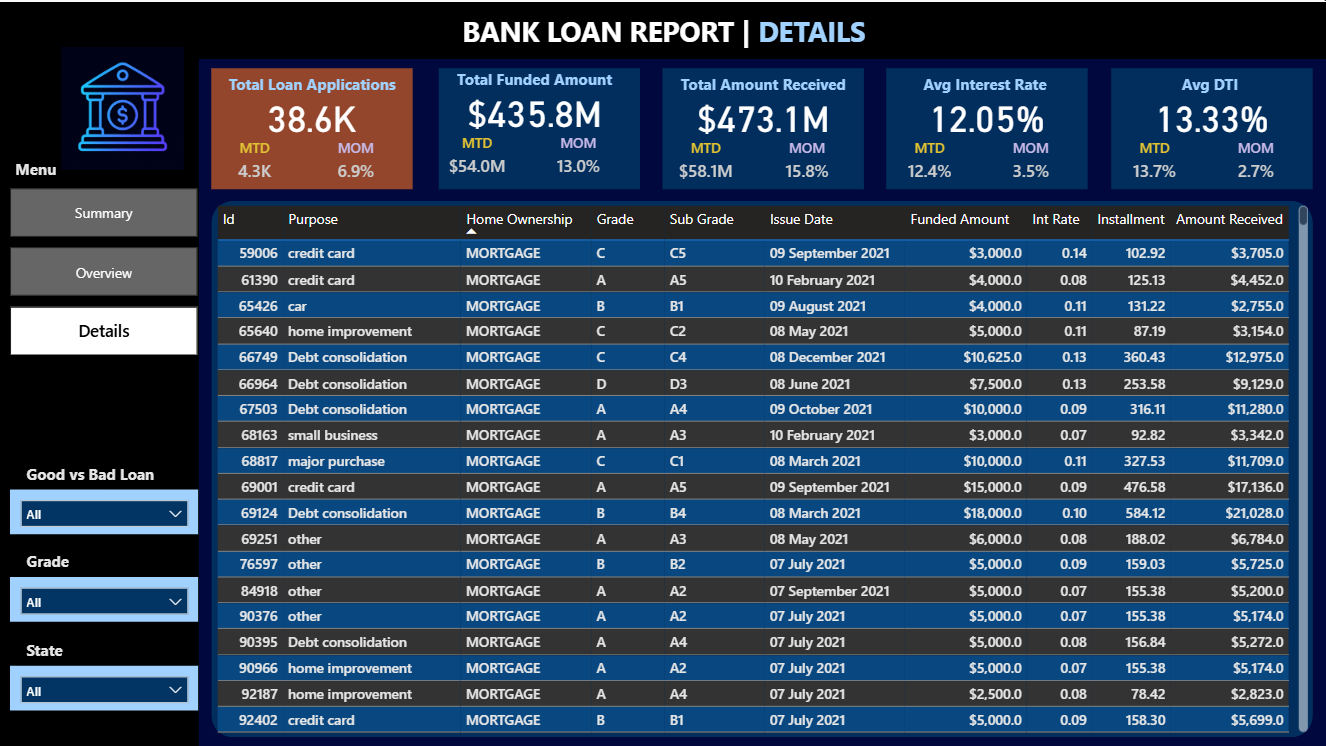

Layout of this report page (visuals, bound fields, positions):
{"tool":"powerbi","page":{"name":"Details","canvas":[1280,720],"ordinal":2},"visuals":[{"type":"shape","box":[0,54.8,192,665.1],"z":0},{"type":"shape","box":[203.4,63.8,194.8,116.9],"z":0,"group":"g1"},{"type":"shape","box":[423.8,63.2,194.2,117],"z":1000,"group":"g2"},{"type":"shape","box":[639.2,63.6,194.8,116.9],"z":1000,"group":"g3"},{"type":"shape","box":[855.6,63.6,194.8,116.9],"z":1000,"group":"g4"},{"type":"shape","box":[1072,63.8,194.8,116.9],"z":1000,"group":"g5"},{"type":"card","fields":{"Values":["Bank_Loan_data.Total Loan Applications"]},"box":[203.4,82.6,194.8,53.4],"z":1000,"group":"g1"},{"type":"shape","box":[203.4,191.9,1063.3,518],"z":1000},{"type":"shape","box":[0,0,1280,55],"z":2000},{"type":"textbox","box":[203.4,63.8,194.8,33.2],"z":2000,"group":"g1"},{"type":"textbox","box":[411.2,4.3,458.8,50.5],"z":3000},{"type":"card","fields":{"Values":["Bank_Loan_data.Total Funded Amount"]},"box":[419.2,77.6,194.8,53.4],"z":3000,"group":"g2"},{"type":"card","fields":{"Values":["Bank_Loan_data.Total Amount Received"]},"box":[639.2,82.4,194.8,53.4],"z":3000,"group":"g3"},{"type":"card","fields":{"Values":["Bank_Loan_data.Avg Interest Rate"]},"box":[855.6,82.4,194.8,53.4],"z":3000,"group":"g4"},{"type":"card","fields":{"Values":["Bank_Loan_data.Avg DTI"]},"box":[1072,82.6,194.8,53.4],"z":3000,"group":"g5"},{"type":"card","title":"MTD","fields":{"Values":["Date Table.MTD Loan Applications"]},"box":[203.4,131.6,83.7,49.1],"z":3000,"group":"g1"},{"type":"group","id":"g1","title":"Group 1","box":[203.4,63.8,194.8,116.9],"z":4000},{"type":"card","title":"MOM","fields":{"Values":["Date Table.MOM Loan Applications"]},"box":[301.5,131.6,83.7,49.1],"z":4000,"group":"g1"},{"type":"group","id":"g2","title":"Group 2","box":[419.2,58.8,199.1,121.9],"z":5000},{"type":"textbox","box":[419.2,58.8,194.8,33.2],"z":5000,"group":"g2"},{"type":"textbox","box":[639.2,63.6,194.8,33.2],"z":5000,"group":"g3"},{"type":"textbox","box":[855.6,63.6,194.8,33.2],"z":5000,"group":"g4"},{"type":"textbox","box":[1072,63.8,194.8,33.2],"z":5000,"group":"g5"},{"type":"group","id":"g3","title":"Group 2","box":[639.2,63.6,195.4,117],"z":6000},{"type":"card","title":"MTD","fields":{"Values":["Date Table.MTD Funded Amount"]},"box":[419.2,126.6,83.7,49.1],"z":6000,"group":"g2"},{"type":"card","title":"MTD","fields":{"Values":["Date Table.MTD Total Amount Received"]},"box":[639.2,131.4,83.7,49.1],"z":6000,"group":"g3"},{"type":"card","title":"MTD","fields":{"Values":["Date Table.MTD Avg Interest Rate"]},"box":[855.6,131.4,83.7,49.1],"z":6000,"group":"g4"},{"type":"card","title":"MTD","fields":{"Values":["Date Table.MTD Avg DTI"]},"box":[1072,131.6,83.7,49.1],"z":6000,"group":"g5"},{"type":"group","id":"g4","title":"Group 2","box":[855.6,63.6,195.4,117],"z":7000},{"type":"card","title":"MOM","fields":{"Values":["Date Table.MOM Funded Amount"]},"box":[517.3,126.6,83.7,49.1],"z":7000,"group":"g2"},{"type":"card","title":"MOM","fields":{"Values":["Date Table.MOM Total Amount Received"]},"box":[737.3,131.4,83.7,49.1],"z":7000,"group":"g3"},{"type":"card","title":"MOM","fields":{"Values":["Date Table.MOM Avg Interest Rate"]},"box":[953.7,131.4,83.7,49.1],"z":7000,"group":"g4"},{"type":"card","title":"MOM","fields":{"Values":["Date Table.MOM Avg DTI"]},"box":[1170.1,131.6,83.7,49.1],"z":7000,"group":"g5"},{"type":"group","id":"g5","title":"Group 2","box":[1072,63.8,194.8,116.9],"z":8000},{"type":"textbox","box":[20.2,525.2,76.5,30.3],"z":9000},{"type":"slicer","fields":{"Values":["Bank_Loan_data.grade"]},"box":[10.1,555.5,181.8,43.3],"z":10000},{"type":"textbox","box":[20.2,610.3,76.5,30.3],"z":11000},{"type":"slicer","fields":{"Values":["Bank_Loan_data.address_state"]},"box":[10.1,640.6,181.8,43.3],"z":12000},{"type":"textbox","box":[20.2,440,141.4,30.3],"z":13000},{"type":"slicer","fields":{"Values":["Bank_Loan_data.Good vs Bad Loan"]},"box":[10.1,470.3,181.8,43.3],"z":14000},{"type":"tableEx","fields":{"Values":["Bank_Loan_data.id","Bank_Loan_data.purpose","Bank_Loan_data.home_ownership","Bank_Loan_data.grade","Bank_Loan_data.sub_grade","Bank_Loan_data.issue_date","Bank_Loan_data.Total Funded Amount","Sum(Bank_Loan_data.int_rate)","Sum(Bank_Loan_data.installment)","Bank_Loan_data.Total Amount Received"]},"box":[203.4,191.9,1063.3,518],"z":15000},{"type":"pageNavigator","box":[10.1,180.3,181.8,163],"z":16000},{"type":"textbox","box":[10.1,145.7,76.5,30.3],"z":17000},{"type":"image","box":[59.2,43.3,118.3,118.3],"z":17001}]}

Visuals, with their boxes in screenshot pixels (x1, y1, x2, y2), scaled from the page's 1280x720 canvas onto the 1326x746 screenshot:
shape: BBox(0, 57, 199, 745)
shape: BBox(211, 66, 413, 187)
shape: BBox(439, 65, 640, 187)
shape: BBox(662, 66, 864, 187)
shape: BBox(886, 66, 1088, 187)
shape: BBox(1111, 66, 1312, 187)
card - Bank_Loan_data.Total Loan Applications: BBox(211, 86, 413, 141)
shape: BBox(211, 199, 1312, 736)
shape: BBox(0, 0, 1325, 57)
textbox: BBox(211, 66, 413, 101)
textbox: BBox(426, 4, 901, 57)
card - Bank_Loan_data.Total Funded Amount: BBox(434, 80, 636, 136)
card - Bank_Loan_data.Total Amount Received: BBox(662, 85, 864, 141)
card - Bank_Loan_data.Avg Interest Rate: BBox(886, 85, 1088, 141)
card - Bank_Loan_data.Avg DTI: BBox(1111, 86, 1312, 141)
"MTD" card: BBox(211, 136, 297, 187)
"Group 1" group: BBox(211, 66, 413, 187)
"MOM" card: BBox(312, 136, 399, 187)
"Group 2" group: BBox(434, 61, 641, 187)
textbox: BBox(434, 61, 636, 95)
textbox: BBox(662, 66, 864, 100)
textbox: BBox(886, 66, 1088, 100)
textbox: BBox(1111, 66, 1312, 101)
"Group 2" group: BBox(662, 66, 865, 187)
"MTD" card: BBox(434, 131, 521, 182)
"MTD" card: BBox(662, 136, 749, 187)
"MTD" card: BBox(886, 136, 973, 187)
"MTD" card: BBox(1111, 136, 1197, 187)
"Group 2" group: BBox(886, 66, 1089, 187)
"MOM" card: BBox(536, 131, 623, 182)
"MOM" card: BBox(764, 136, 851, 187)
"MOM" card: BBox(988, 136, 1075, 187)
"MOM" card: BBox(1212, 136, 1299, 187)
"Group 2" group: BBox(1111, 66, 1312, 187)
textbox: BBox(21, 544, 100, 576)
slicer - Bank_Loan_data.grade: BBox(10, 576, 199, 620)
textbox: BBox(21, 632, 100, 664)
slicer - Bank_Loan_data.address_state: BBox(10, 664, 199, 709)
textbox: BBox(21, 456, 167, 487)
slicer - Bank_Loan_data.Good vs Bad Loan: BBox(10, 487, 199, 532)
tableEx - Bank_Loan_data.id x Bank_Loan_data.purpose: BBox(211, 199, 1312, 736)
pageNavigator: BBox(10, 187, 199, 356)
textbox: BBox(10, 151, 90, 182)
image: BBox(61, 45, 184, 167)
